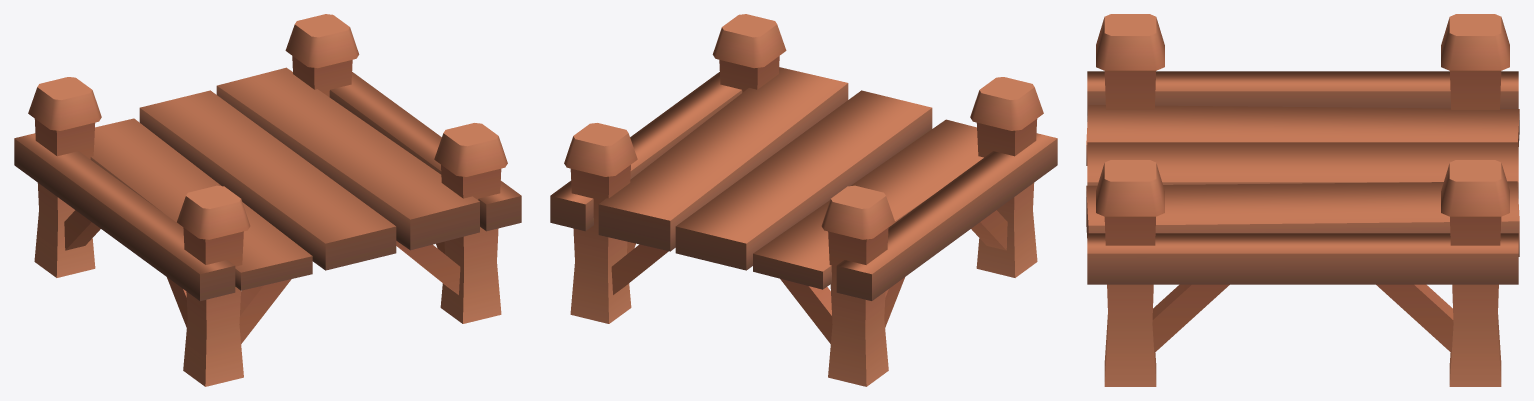
Rendered from structure-platform-dock.glb.
3 renders of one model, left to right at view 1: azimuth 30°, elevation 25°; view 2: azimuth 150°, elevation 25°; view 3: azimuth 270°, elevation 25°, orthographic. The views are drawn at different scales.
Parts seen in each view (by area): view 1: structure-platform-dock; view 2: structure-platform-dock; view 3: structure-platform-dock.
Part boxes in pixels (x1,y1,x2,y2): structure-platform-dock: (14, 14, 521, 386); structure-platform-dock: (550, 14, 1057, 386); structure-platform-dock: (1086, 14, 1519, 386).
Bounding box in the file's own units: 2.5 × 1.31 × 2.51.
Materials: 1 (1 with a texture image).
